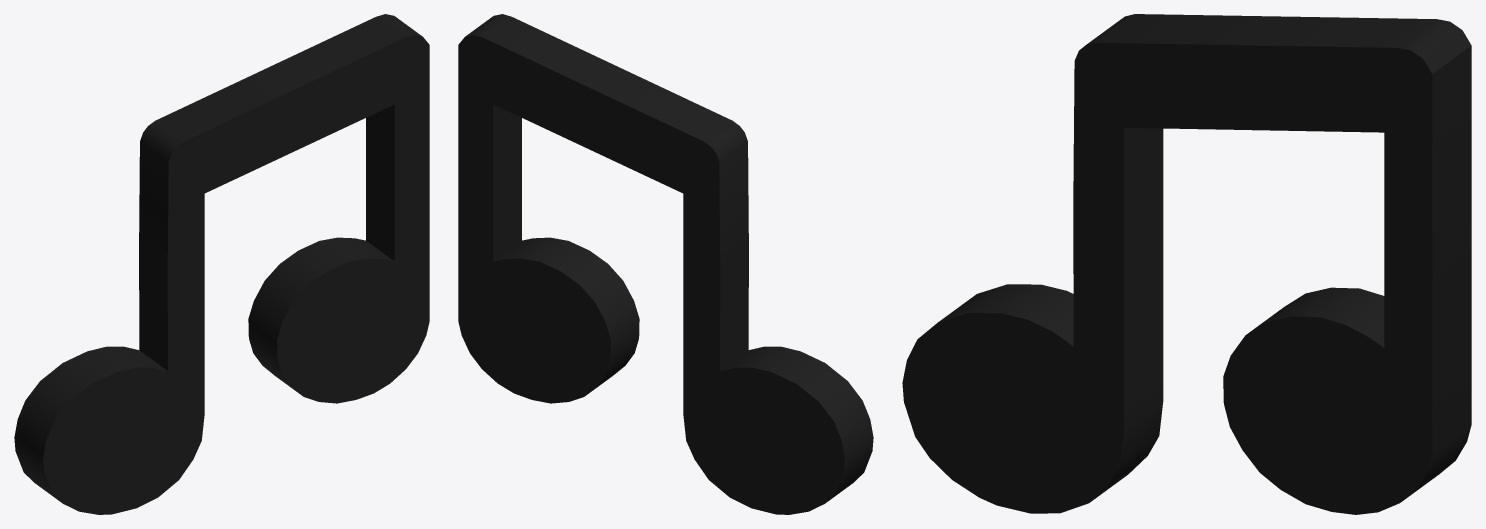
Rendered from music_note.fbx.
3 views of the same model, side by side, from view 1: azimuth 30°, elevation 25°; view 2: azimuth 150°, elevation 25°; view 3: azimuth 330°, elevation 25° (orthographic). The views are drawn at different scales.
Visible parts, largest first — view 1: music_note; view 2: music_note; view 3: music_note.
Part boxes in pixels (<box>): music_note: <box>14,14,429,514</box>; music_note: <box>458,14,873,514</box>; music_note: <box>902,14,1471,514</box>.
Bounding box in the file's own units: 43.74 × 43.88 × 5.62.
